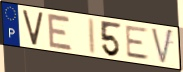5: (99, 19, 123, 58)
E: (46, 12, 74, 52), (124, 25, 151, 62)
I: (88, 17, 98, 57)
V: (150, 27, 175, 67), (21, 9, 45, 47)
